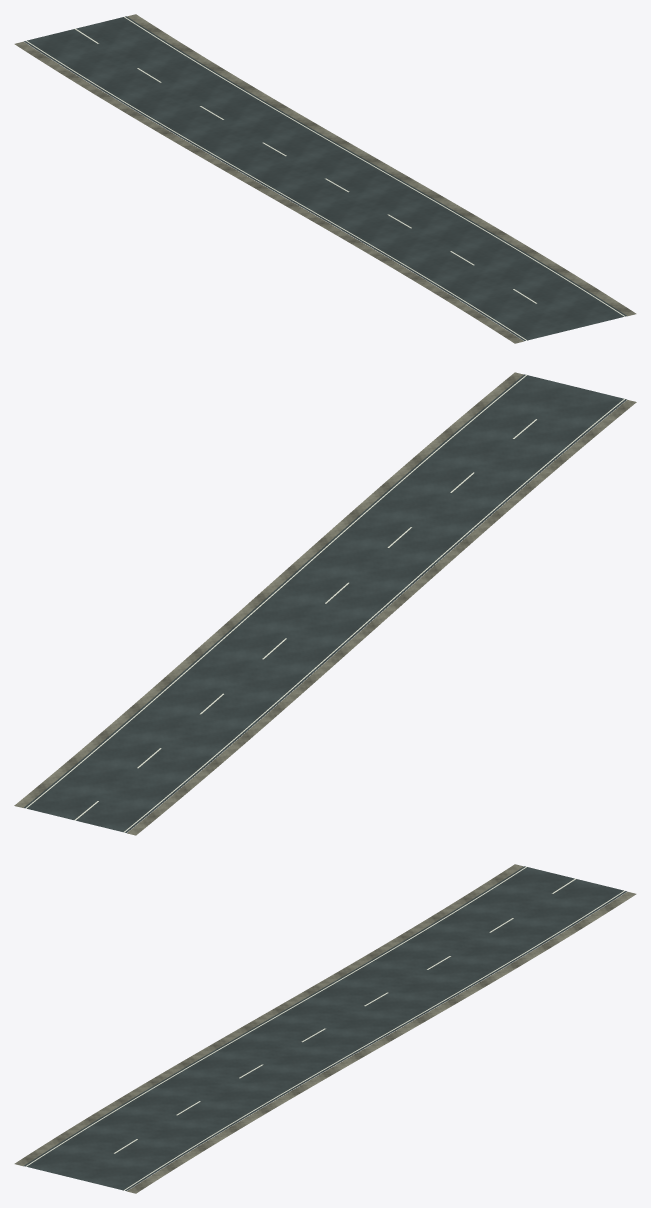
File: road_coastal_highway_hill_64m.glb
3 renders of one model, top to bottom at view 1: azimuth 30°, elevation 25°; view 2: azimuth 150°, elevation 25°; view 3: azimuth 330°, elevation 25°, orthographic.
Visible parts, largest first — view 1: road_surface, static_gravel, static_road_marking; view 2: road_surface, static_gravel, static_road_marking; view 3: road_surface, static_gravel, static_road_marking.
Part boxes in pixels (x1,y1,x2,y2): road_surface: [24, 16, 626, 340]; static_gravel: [14, 14, 636, 343]; static_road_marking: [25, 16, 625, 340]; road_surface: [24, 374, 626, 832]; static_gravel: [14, 372, 636, 835]; static_road_marking: [25, 375, 624, 832]; road_surface: [24, 866, 626, 1190]; static_gravel: [14, 864, 636, 1193]; static_road_marking: [25, 866, 625, 1190].
Bounding box in the file's own units: 9 × 4.74 × 64.
Materials: 3 (2 with a texture image).
